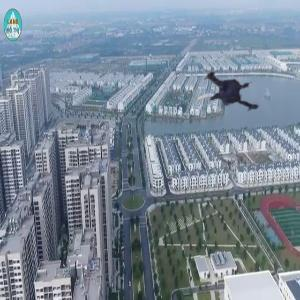drone: (185, 53, 267, 135)
